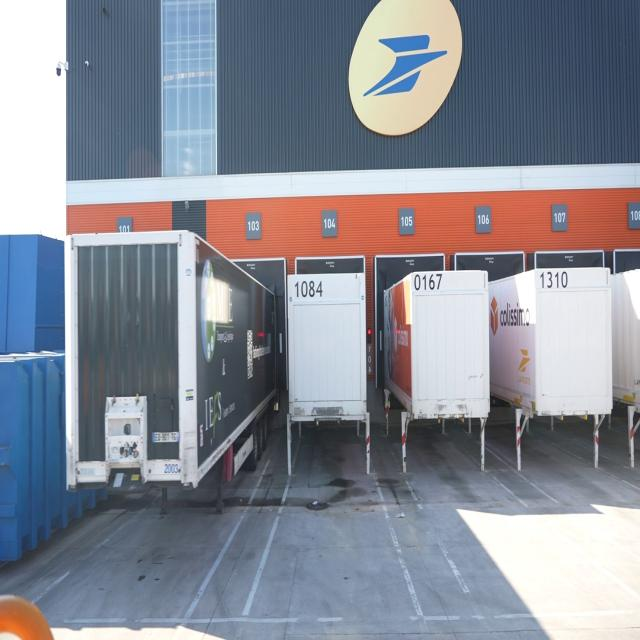Code: (535, 267, 570, 294), (411, 269, 443, 294), (292, 278, 324, 300)
